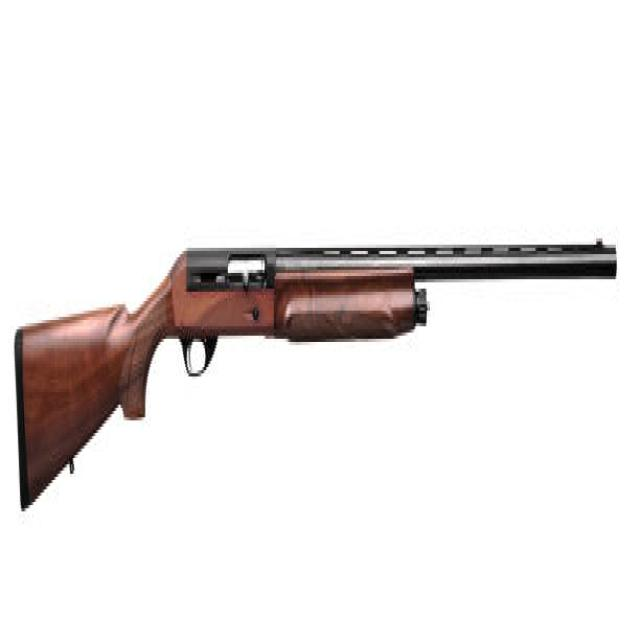rifle: (8, 205, 625, 533)
